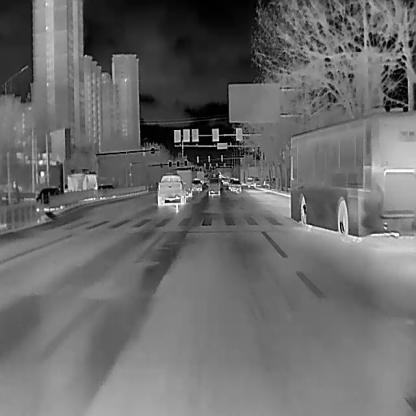bus: (289, 111, 414, 243)
car: (156, 173, 186, 206), (35, 186, 63, 209), (207, 176, 220, 196), (230, 180, 241, 192)
truck: (66, 167, 96, 190), (176, 169, 192, 197)
